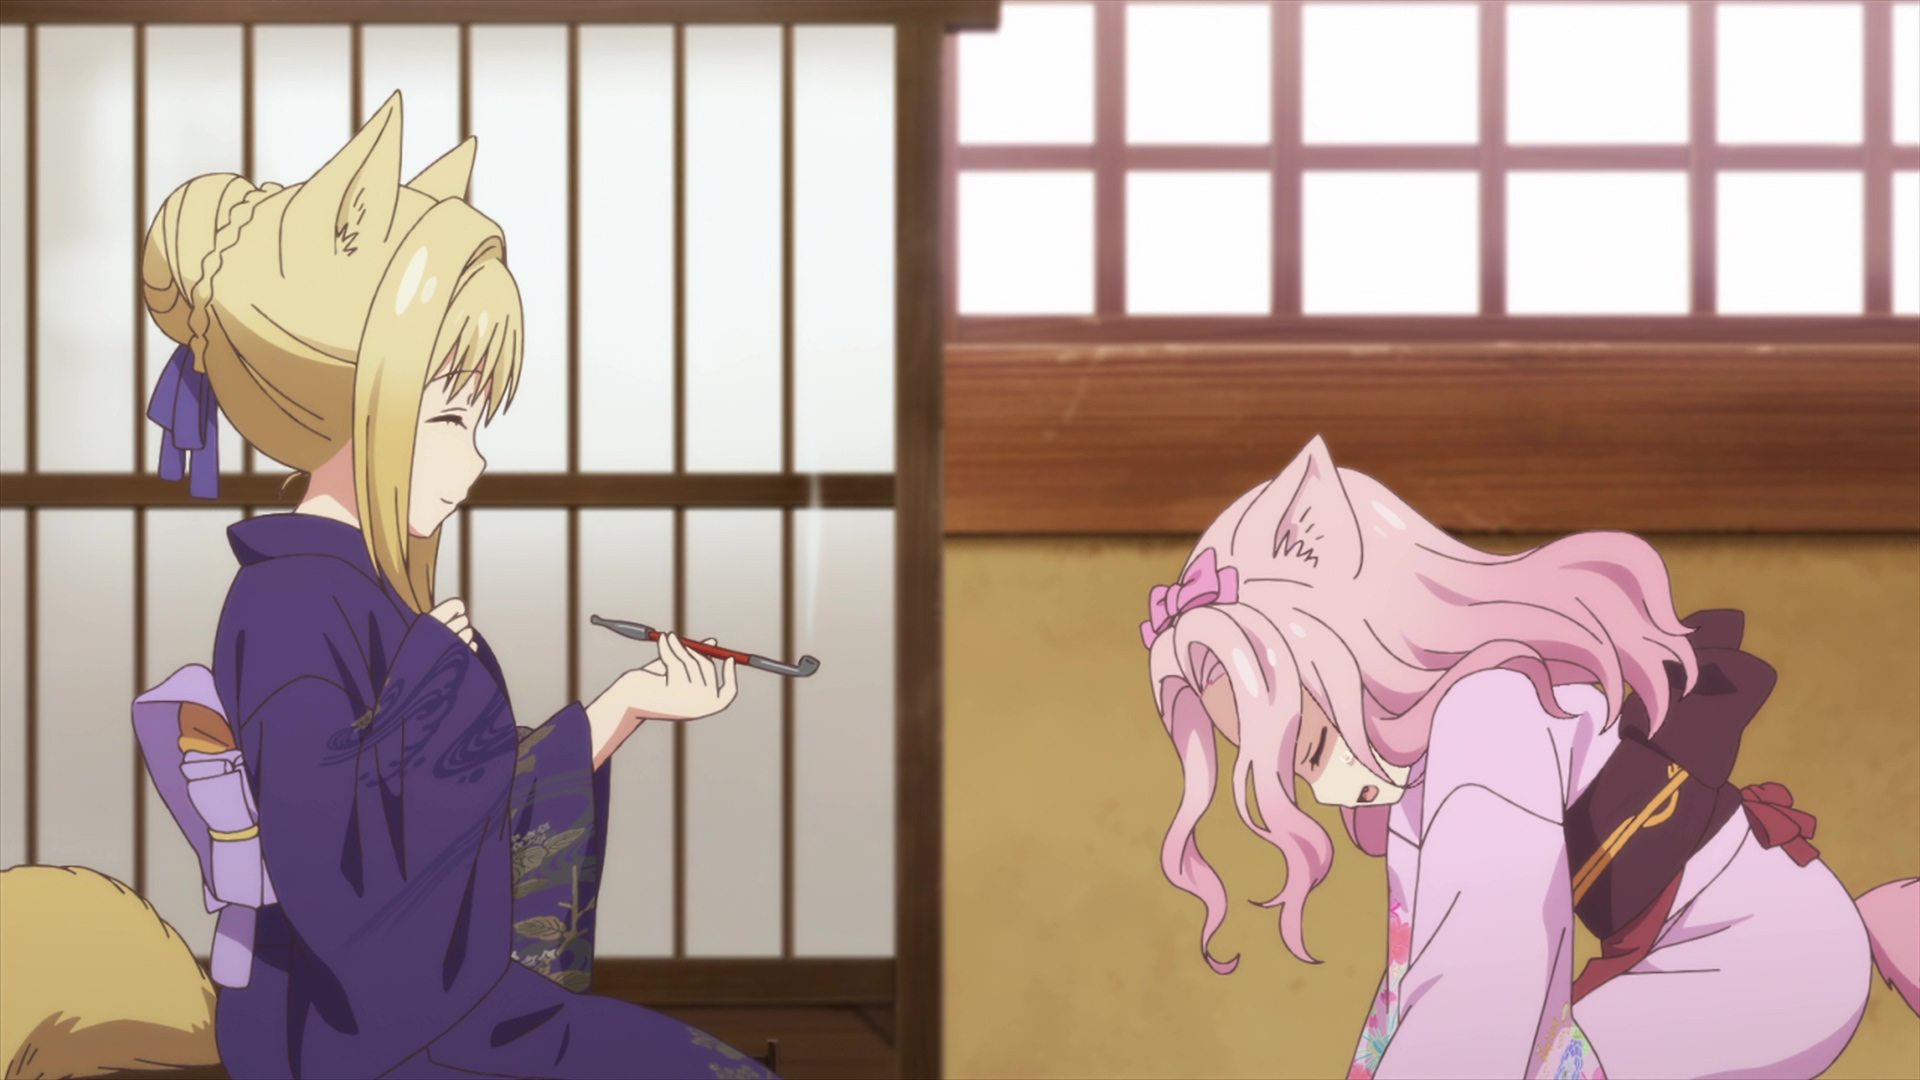桐: (1, 91, 767, 1080)
莲: (1143, 435, 1920, 1080)
